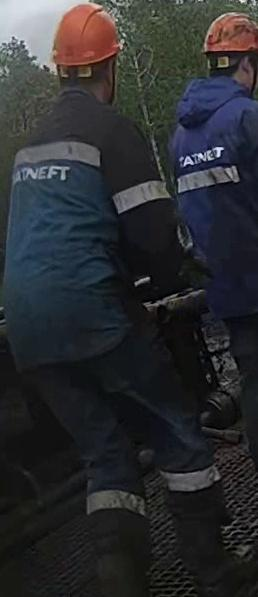helmet: (51, 2, 123, 67), (201, 11, 257, 55)
vest: (1, 103, 151, 371), (169, 75, 257, 318)
